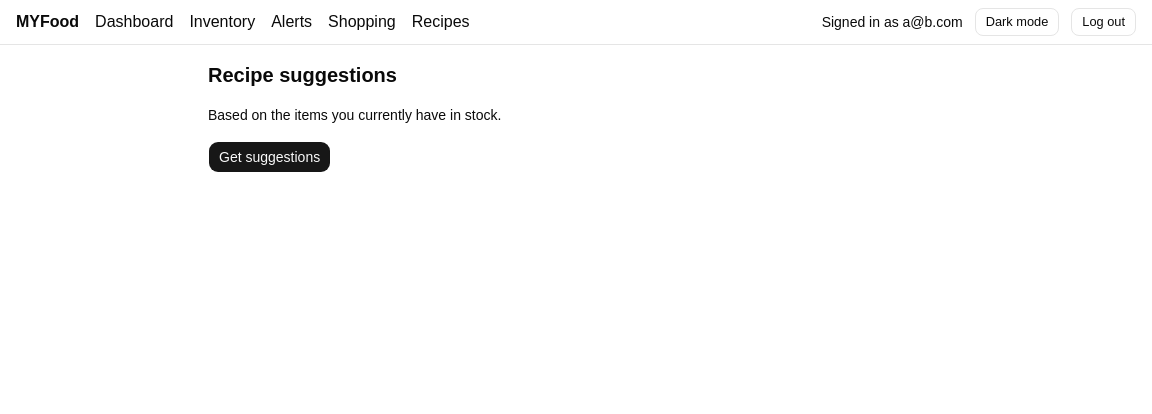
it: recipes › does not fetch on load, fetches on click, and sanitises links
Click the button "Get suggestions".
click(270, 157)  # box [208,141,331,173]
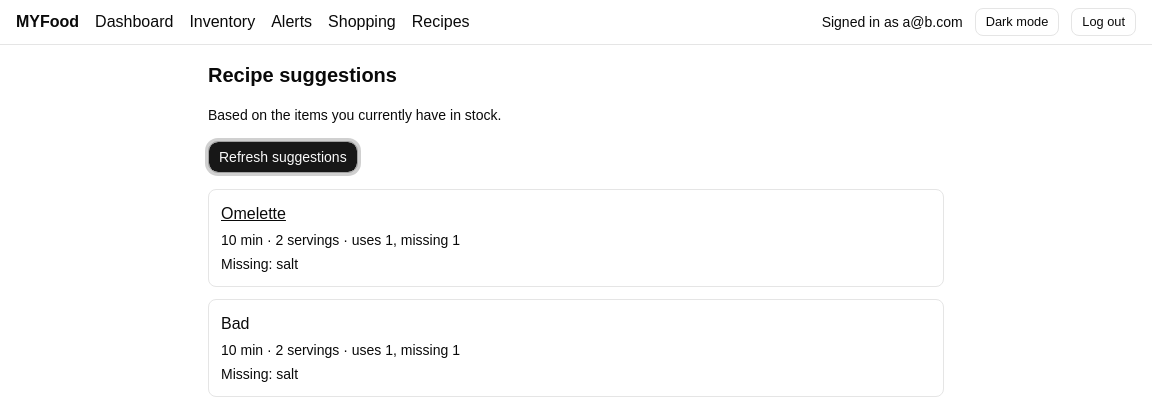
Expected: the heading "Bad" is shown, [221,315,250,332]
